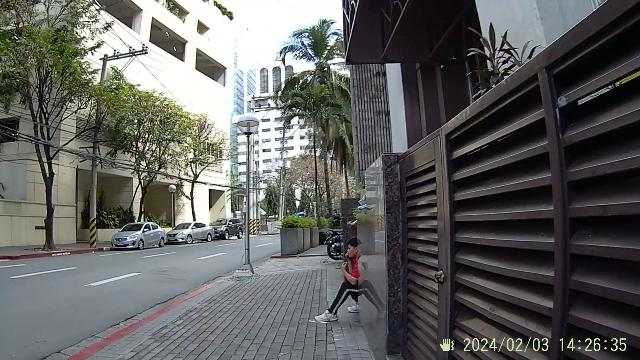lamp_post: (235, 109, 259, 277), (167, 182, 179, 220)
potted_plant: (278, 210, 320, 254)
tree: (33, 106, 67, 250)
